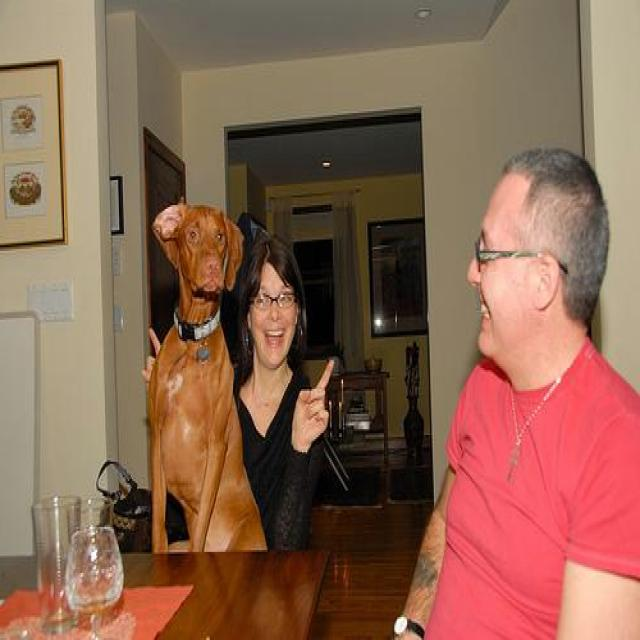vizsla: (150, 200, 272, 550)
